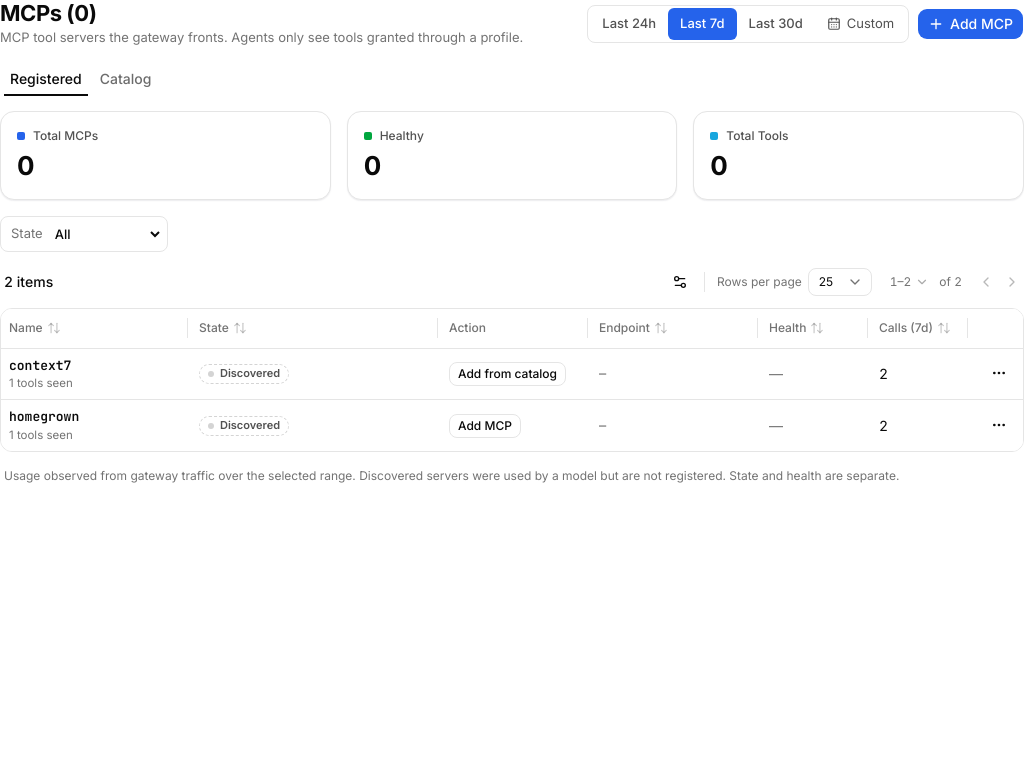
Test: refresh after adding a discovered item › Add MCP: Discovered row flips to a connector row without reload
Check: the text "homegrown" shows "Discovered", box top-left (220, 418), bottom-right (280, 432)
Click the button with aria-label "Add MCP: homegrown": (485, 426) top-left (449, 414), bottom-right (521, 438)
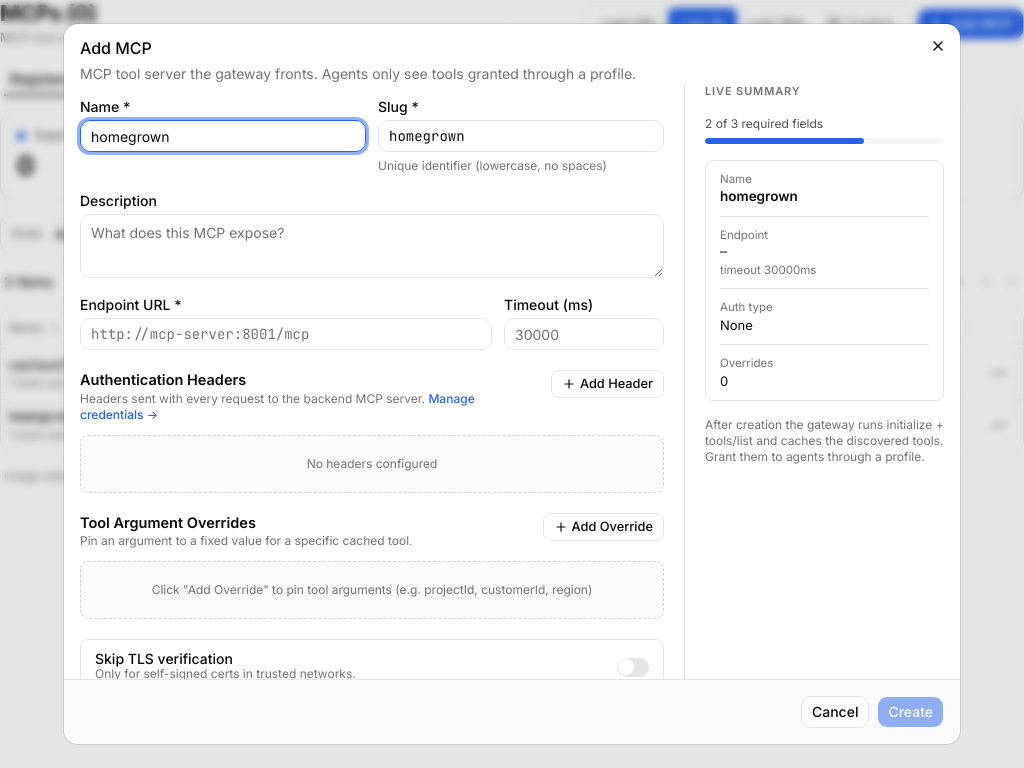
In the field with placeholder "http://mcp-server:8001/mcp": (286, 334) top-left (80, 318), bottom-right (492, 350), type "http://homegrown:8001/mcp"
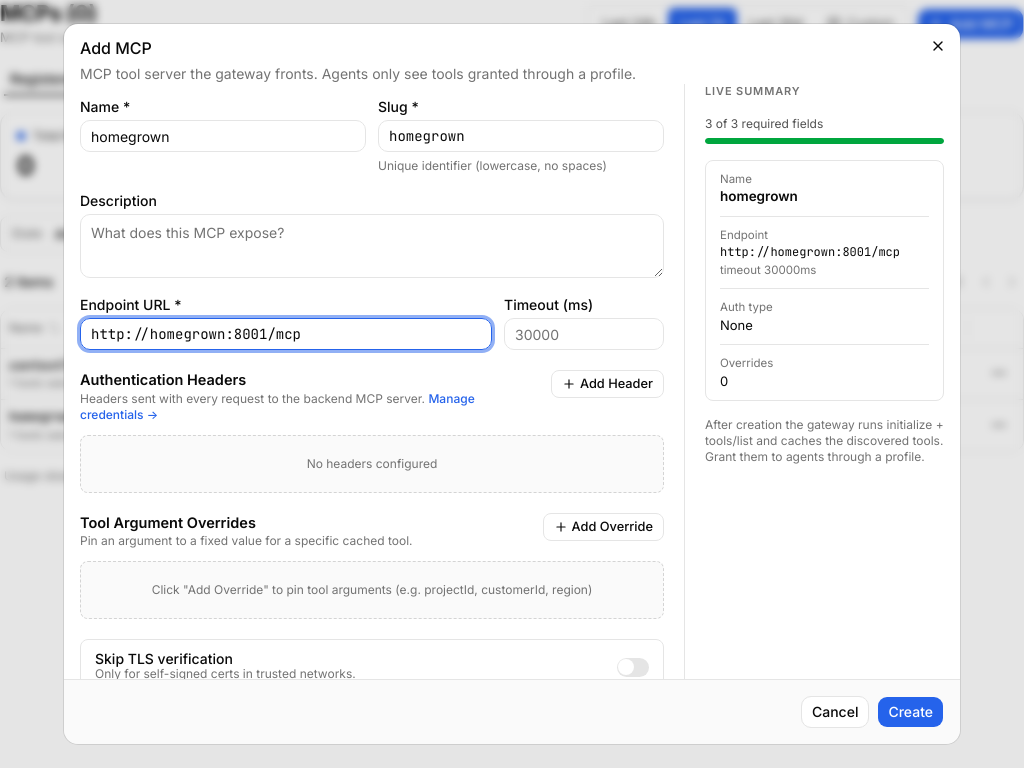
Click the button "Create": (911, 712) top-left (877, 696), bottom-right (944, 728)
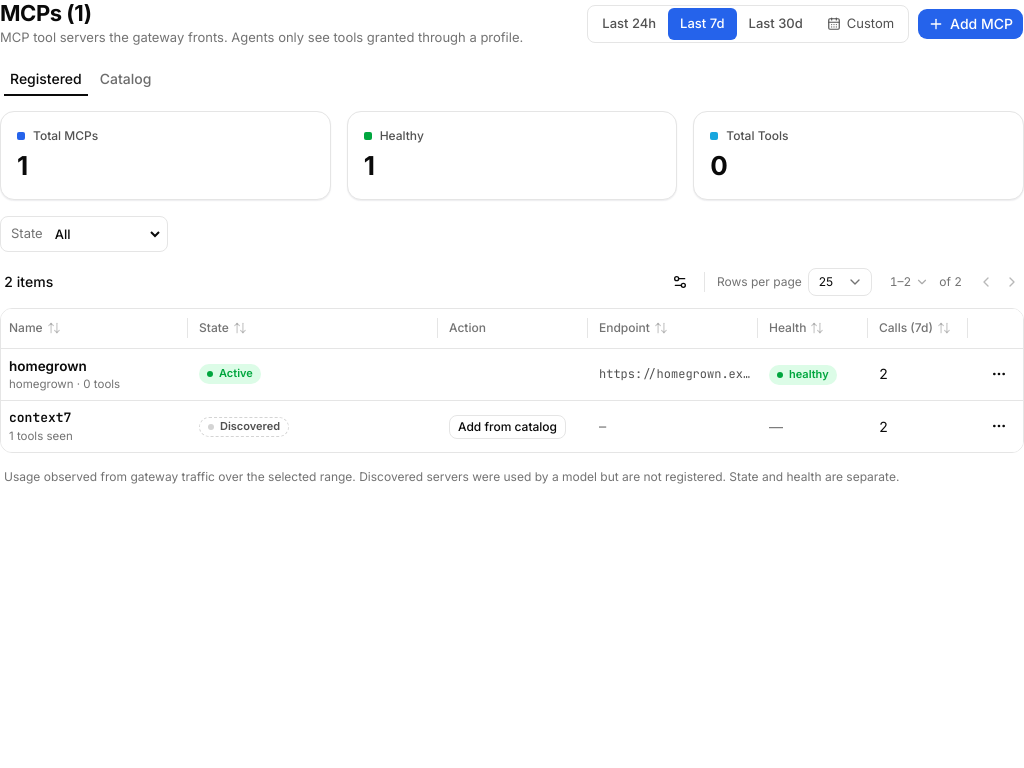
Check: the text "homegrown" does not show "Discovered", box top-left (1, 348), bottom-right (1023, 401)
Check: the text "homegrown" shows "Active", box top-left (219, 366), bottom-right (253, 380)
